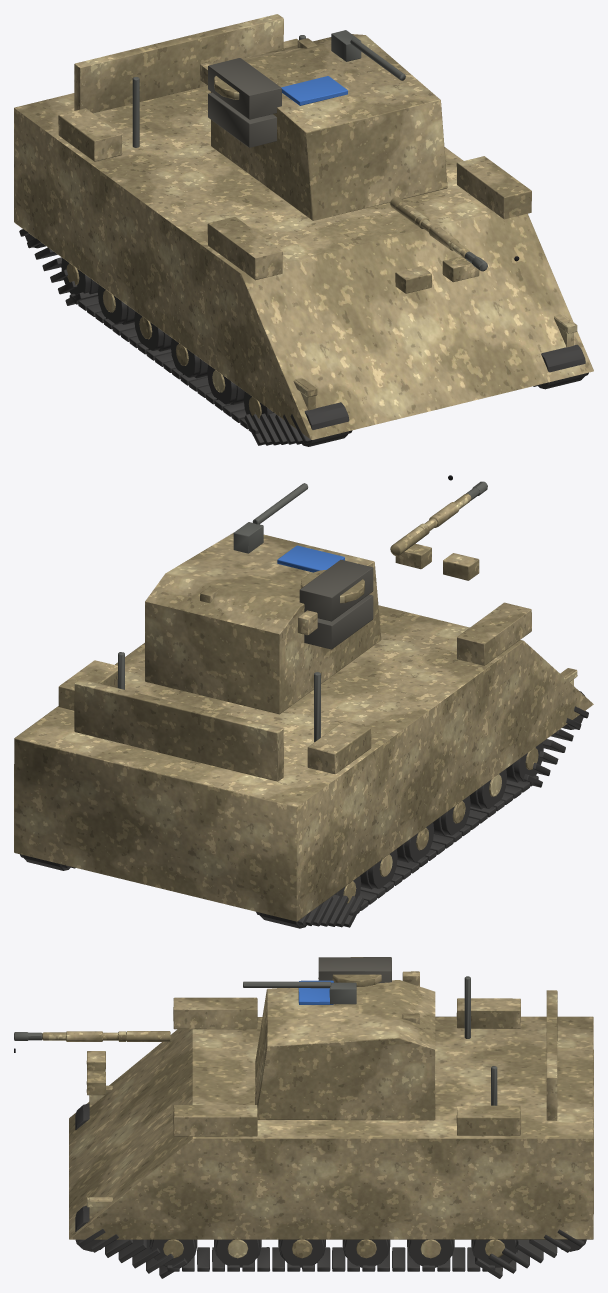
The model's file is afv_e4_us_ifv_LOD1.glb.
The picture shows the model from 3 angles, top to bottom: view 1: azimuth 30°, elevation 25°; view 2: azimuth 150°, elevation 25°; view 3: azimuth 270°, elevation 25°; orthographic projection. The views are drawn at different scales.
Visible parts, largest first — view 1: afv_e4_us_ifv_LOD1_body, afv_e4_us_ifv_LOD1_track, afv_e4_us_ifv_LOD1_deck, afv_e4_us_ifv_LOD1_gun, afv_e4_us_ifv_LOD1_team; view 2: afv_e4_us_ifv_LOD1_body, afv_e4_us_ifv_LOD1_track, afv_e4_us_ifv_LOD1_deck, afv_e4_us_ifv_LOD1_gun, afv_e4_us_ifv_LOD1_team; view 3: afv_e4_us_ifv_LOD1_body, afv_e4_us_ifv_LOD1_track, afv_e4_us_ifv_LOD1_gun, afv_e4_us_ifv_LOD1_deck, afv_e4_us_ifv_LOD1_team.
Part boxes in pixels (bbox=[...]): afv_e4_us_ifv_LOD1_body: bbox=[14, 14, 593, 439]; afv_e4_us_ifv_LOD1_track: bbox=[19, 228, 588, 446]; afv_e4_us_ifv_LOD1_deck: bbox=[208, 58, 281, 147]; afv_e4_us_ifv_LOD1_gun: bbox=[132, 30, 487, 271]; afv_e4_us_ifv_LOD1_team: bbox=[281, 76, 347, 105]; afv_e4_us_ifv_LOD1_body: bbox=[14, 493, 593, 921]; afv_e4_us_ifv_LOD1_track: bbox=[20, 691, 588, 928]; afv_e4_us_ifv_LOD1_deck: bbox=[299, 559, 373, 649]; afv_e4_us_ifv_LOD1_gun: bbox=[117, 481, 487, 741]; afv_e4_us_ifv_LOD1_team: bbox=[277, 545, 344, 572]; afv_e4_us_ifv_LOD1_body: bbox=[42, 957, 593, 1258]; afv_e4_us_ifv_LOD1_track: bbox=[75, 1103, 586, 1278]; afv_e4_us_ifv_LOD1_gun: bbox=[14, 976, 497, 1105]; afv_e4_us_ifv_LOD1_deck: bbox=[318, 957, 391, 983]; afv_e4_us_ifv_LOD1_team: bbox=[298, 980, 333, 1004].
Size of the model in its own units: 3.6 by 3.54 by 7.23.
Materials: 6 (1 with a texture image).
